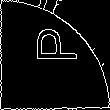P_W: (30, 37, 80, 73)
